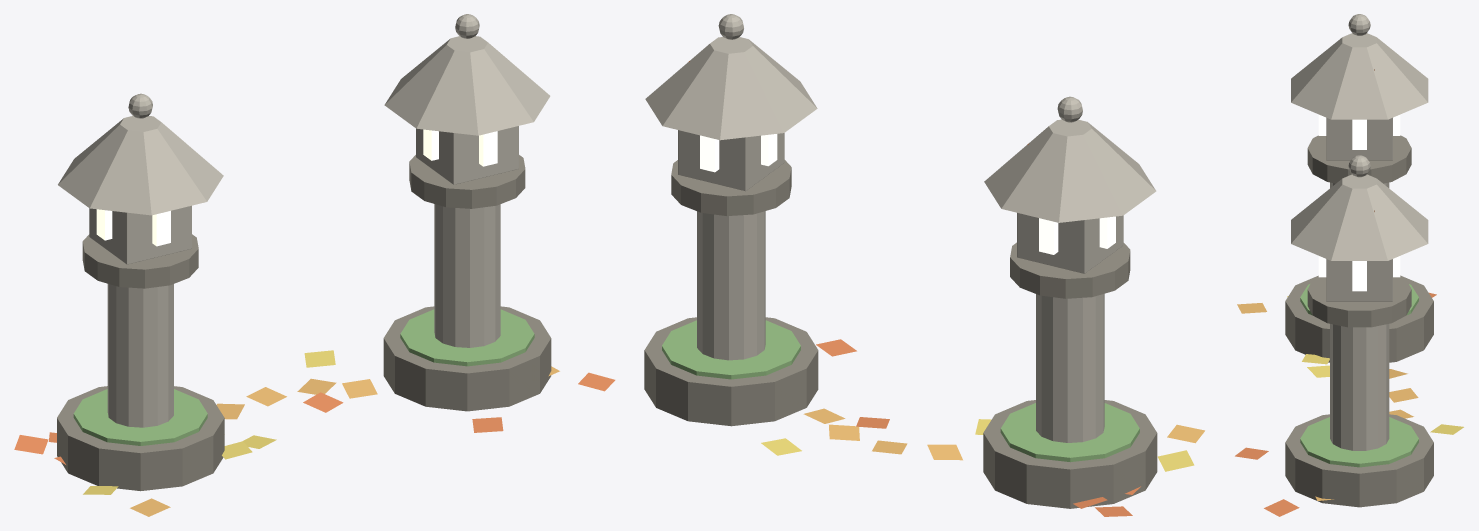
Rendered from momiji_lantern_pair.glb.
3 views of the same model, side by side, from view 1: azimuth 30°, elevation 25°; view 2: azimuth 150°, elevation 25°; view 3: azimuth 270°, elevation 25° (orthographic). The views are drawn at different scales.
Visible parts, largest first — view 1: momiji_lantern_pair; view 2: momiji_lantern_pair; view 3: momiji_lantern_pair.
Boxes of the visible parts, x1,y1,x2,y2 form: momiji_lantern_pair: (14,14,615,516); momiji_lantern_pair: (644,14,1204,516); momiji_lantern_pair: (1235,14,1463,516).
Size of the model in its own units: 1.44 by 0.95 by 0.6205.
